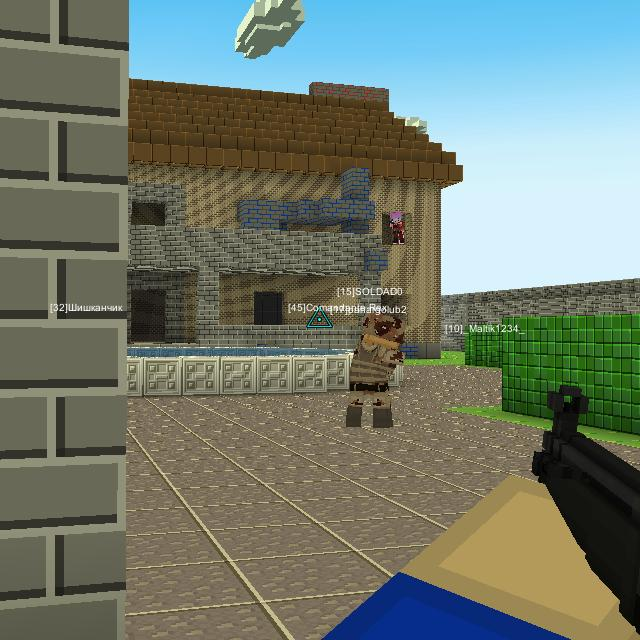enemy: (390, 210, 403, 243)
